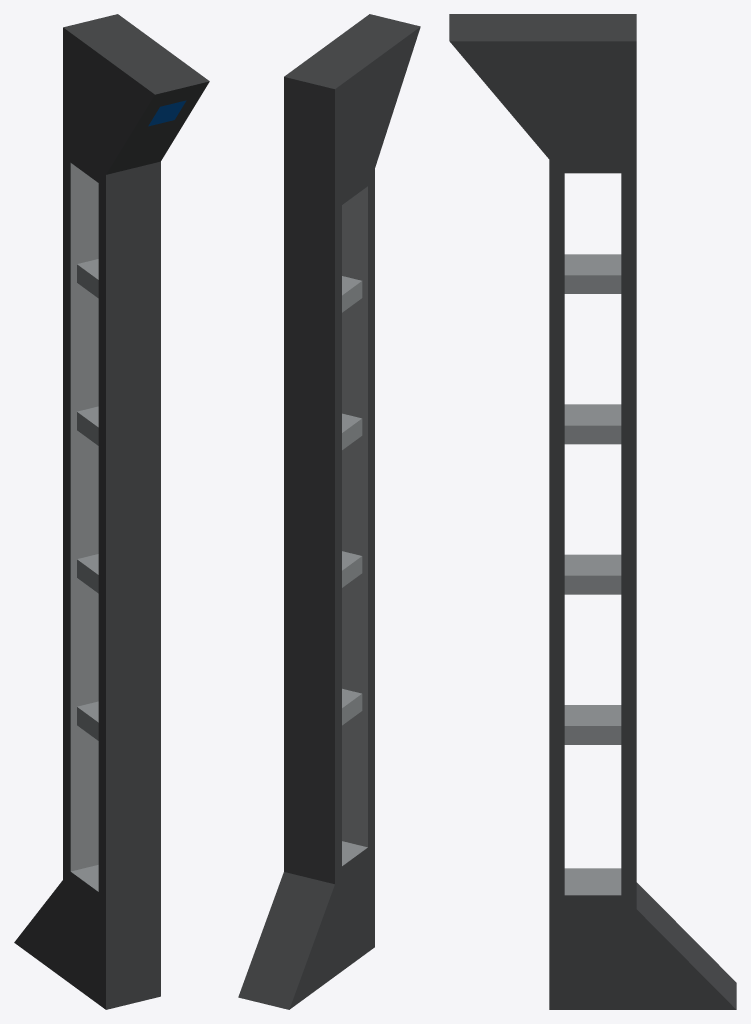
Rendered from Column_005.fbx.
3 renders of one model, left to right at view 1: azimuth 30°, elevation 25°; view 2: azimuth 150°, elevation 25°; view 3: azimuth 270°, elevation 25°, orthographic. The views are drawn at different scales.
Parts seen in each view (by area): view 1: Column_005; view 2: Column_005; view 3: Column_005.
Boxes of the visible parts, <box> form: Column_005: <box>14,14,209,1009</box>; Column_005: <box>238,14,420,1009</box>; Column_005: <box>449,14,736,1009</box>.
Bounding box in the file's own units: 23.21 × 103 × 385.
